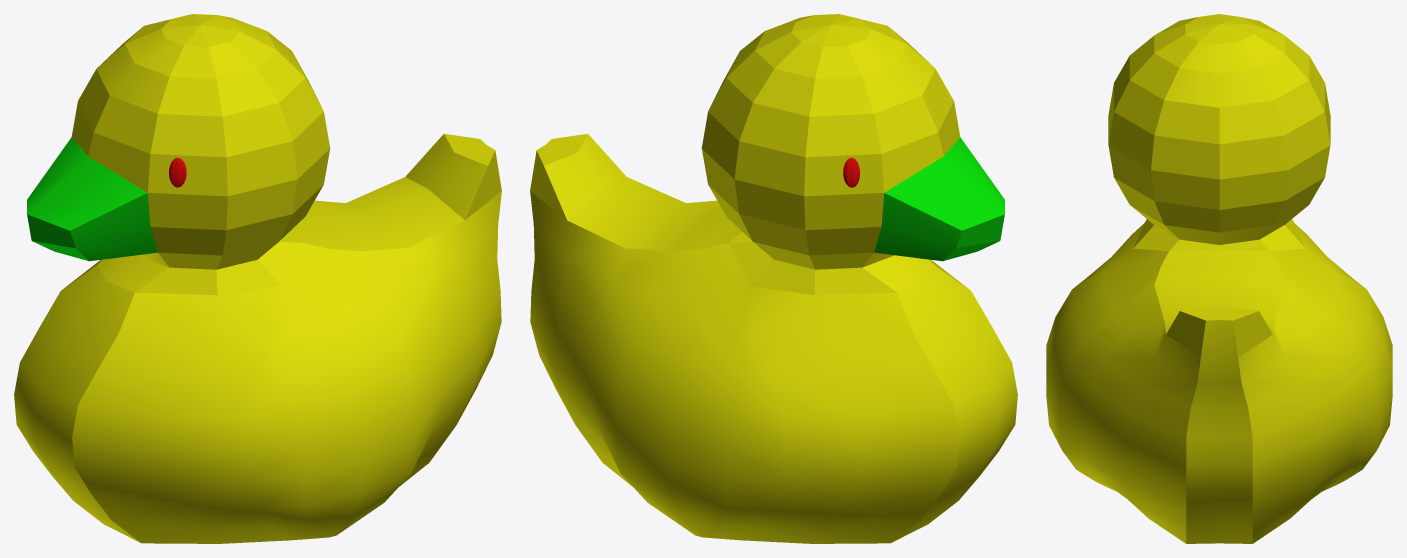
Rendered from Duck.fbx.
3 renders of one model, left to right at view 1: azimuth 30°, elevation 25°; view 2: azimuth 150°, elevation 25°; view 3: azimuth 270°, elevation 25°, orthographic. The views are drawn at different scales.
Visible parts, largest first — view 1: duck; view 2: duck; view 3: duck.
Boxes of the visible parts, bbox=[...] form: duck: bbox=[14, 14, 501, 543]; duck: bbox=[530, 14, 1017, 543]; duck: bbox=[1046, 14, 1392, 543].
Bounding box in the file's own units: 0.3447 × 0.3373 × 0.2473.
